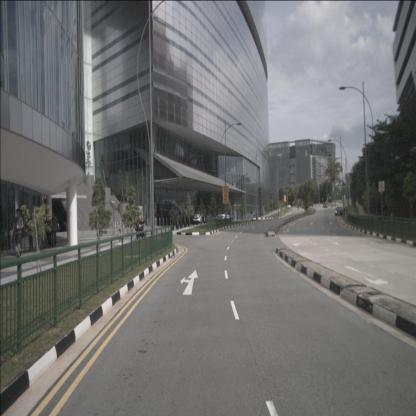human-pedestrian-adult: (10, 208, 24, 258), (50, 211, 58, 247), (45, 212, 52, 249), (27, 216, 34, 251)
vehicle-car: (193, 213, 205, 225), (218, 211, 230, 222), (335, 206, 343, 216)
vehicle-motorcycle: (0, 229, 12, 251), (135, 219, 146, 240)
